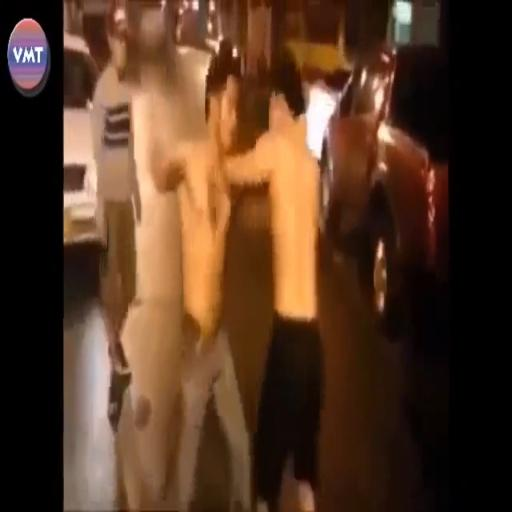violencia: (143, 19, 331, 512)
